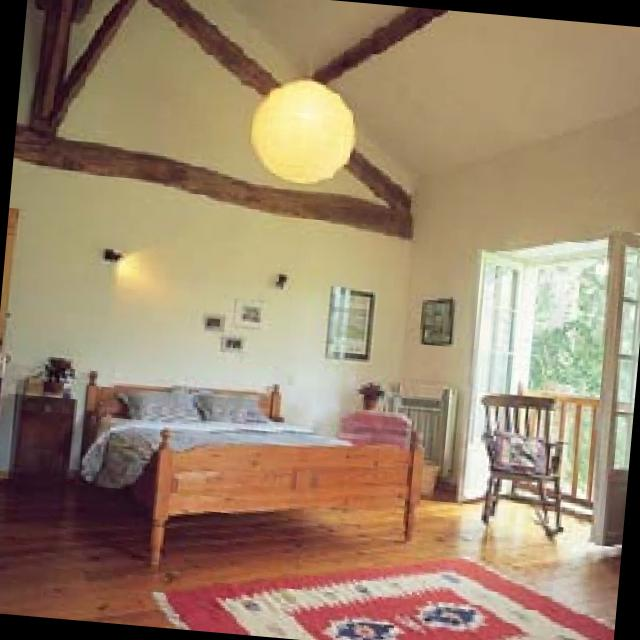2001: (509, 257, 637, 507)
bed -occluded-: (80, 365, 426, 564)
bouquet: (48, 354, 80, 388), (362, 377, 392, 403)
cabinet door: (395, 379, 457, 459)
ceiling beam: (234, 0, 640, 171)
ceiling lamps: (252, 76, 360, 186)
chair -occluded-: (481, 387, 571, 533)
door bars: (465, 247, 521, 496), (597, 228, 640, 544)
lamp crop: (105, 244, 135, 266), (276, 271, 297, 290)
night stand cabinet: (10, 389, 80, 479)
painting crop: (324, 284, 378, 360), (422, 294, 458, 345), (235, 298, 274, 325), (222, 332, 251, 351), (204, 310, 231, 329)
pillow occluded: (123, 384, 206, 423), (194, 386, 271, 418)
rug -partially obscured-: (154, 547, 613, 640)
